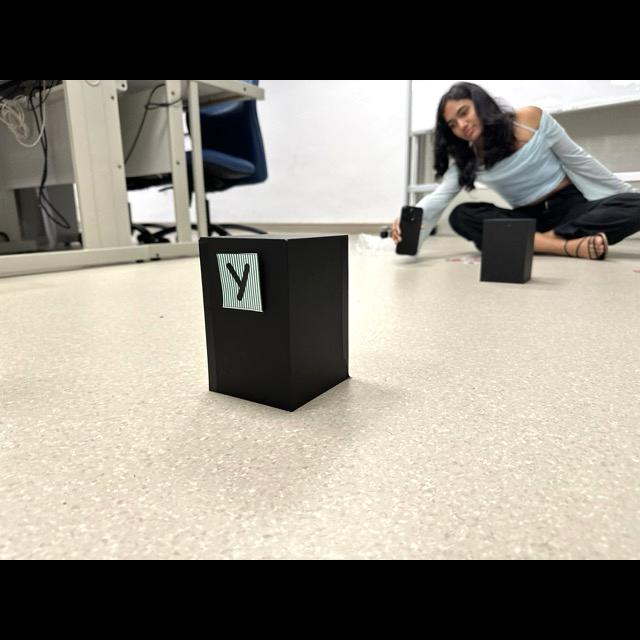Y: (226, 263, 249, 300)
